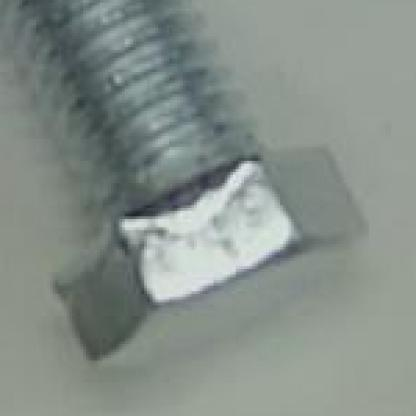FOD: (3, 3, 394, 394)
